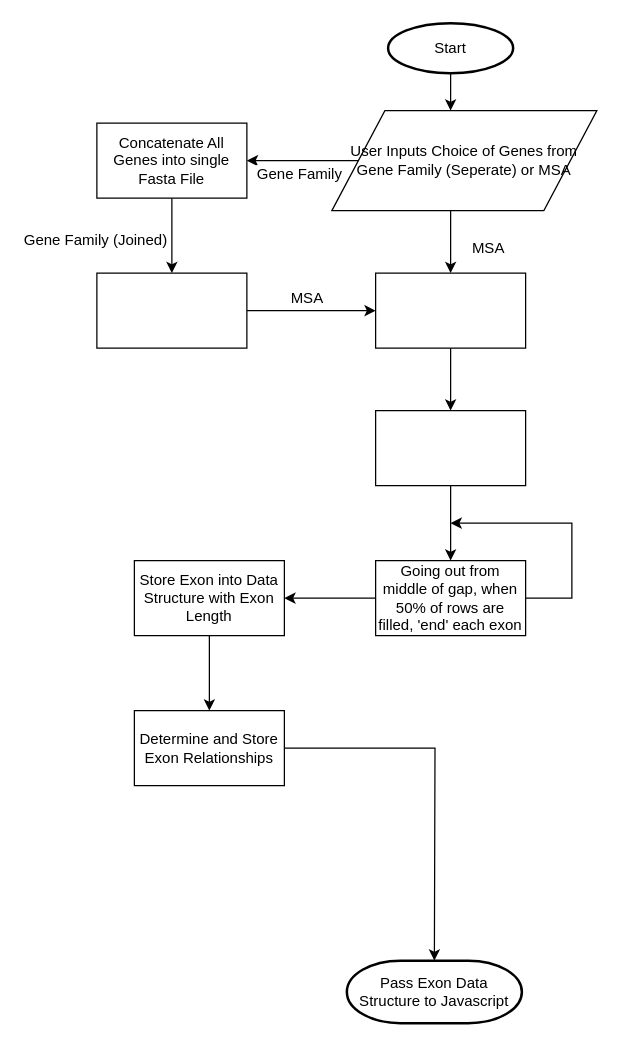
The diagram is 619 pixels wide and 1045 high, and some of its shapes have lost their labels. The shapes that lost their labels are listed below. From the top down, each one's centre as x and y in pixels, then its label:
the point at 171,310: Process in MSA
the point at 450,310: Read through and find all exon lengths and persistent gap lengths
the point at 450,447: Start Loop for Each 2 exons or each gap
